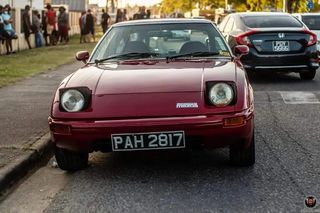License-Plate: (111, 134, 183, 150), (273, 40, 287, 50)
